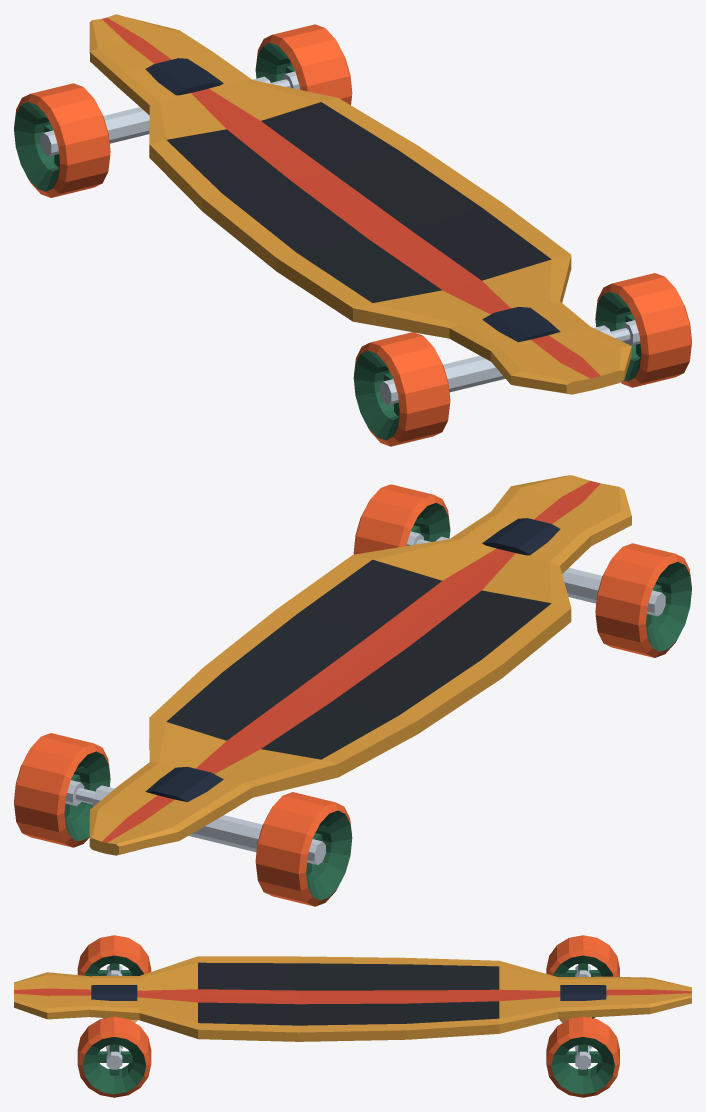
The model's file is longboard.glb.
3 renders of one model, top to bottom at view 1: azimuth 30°, elevation 25°; view 2: azimuth 150°, elevation 25°; view 3: azimuth 270°, elevation 25°, orthographic. The views are drawn at different scales.
Parts seen in each view (by area): view 1: Deck, Wheel_FL, Wheel_RL, Wheel_FR, Wheel_RR; view 2: Deck, Wheel_RL, Wheel_FL, Wheel_RR, Wheel_FR; view 3: Deck, Wheel_FR, Wheel_RR, Wheel_RL, Wheel_FL.
Part boxes in pixels (left/top/right/bottom): Deck: left=89, top=14, right=631, bottom=394; Wheel_FL: left=353, top=332, right=450, bottom=446; Wheel_RL: left=14, top=83, right=110, bottom=197; Wheel_FR: left=595, top=273, right=691, bottom=387; Wheel_RR: left=255, top=24, right=352, bottom=104; Deck: left=75, top=475, right=631, bottom=855; Wheel_RL: left=255, top=792, right=352, bottom=906; Wheel_FL: left=595, top=543, right=691, bottom=657; Wheel_RR: left=14, top=733, right=110, bottom=847; Wheel_FR: left=353, top=484, right=450, bottom=554; Deck: left=14, top=956, right=691, bottom=1048; Wheel_FR: left=77, top=1016, right=151, bottom=1097; Wheel_RR: left=546, top=1016, right=619, bottom=1097; Wheel_RL: left=546, top=935, right=619, bottom=976; Wheel_FL: left=77, top=935, right=151, bottom=976.
Bounding box in the file's own units: 0.556 × 0.176 × 1.62.
